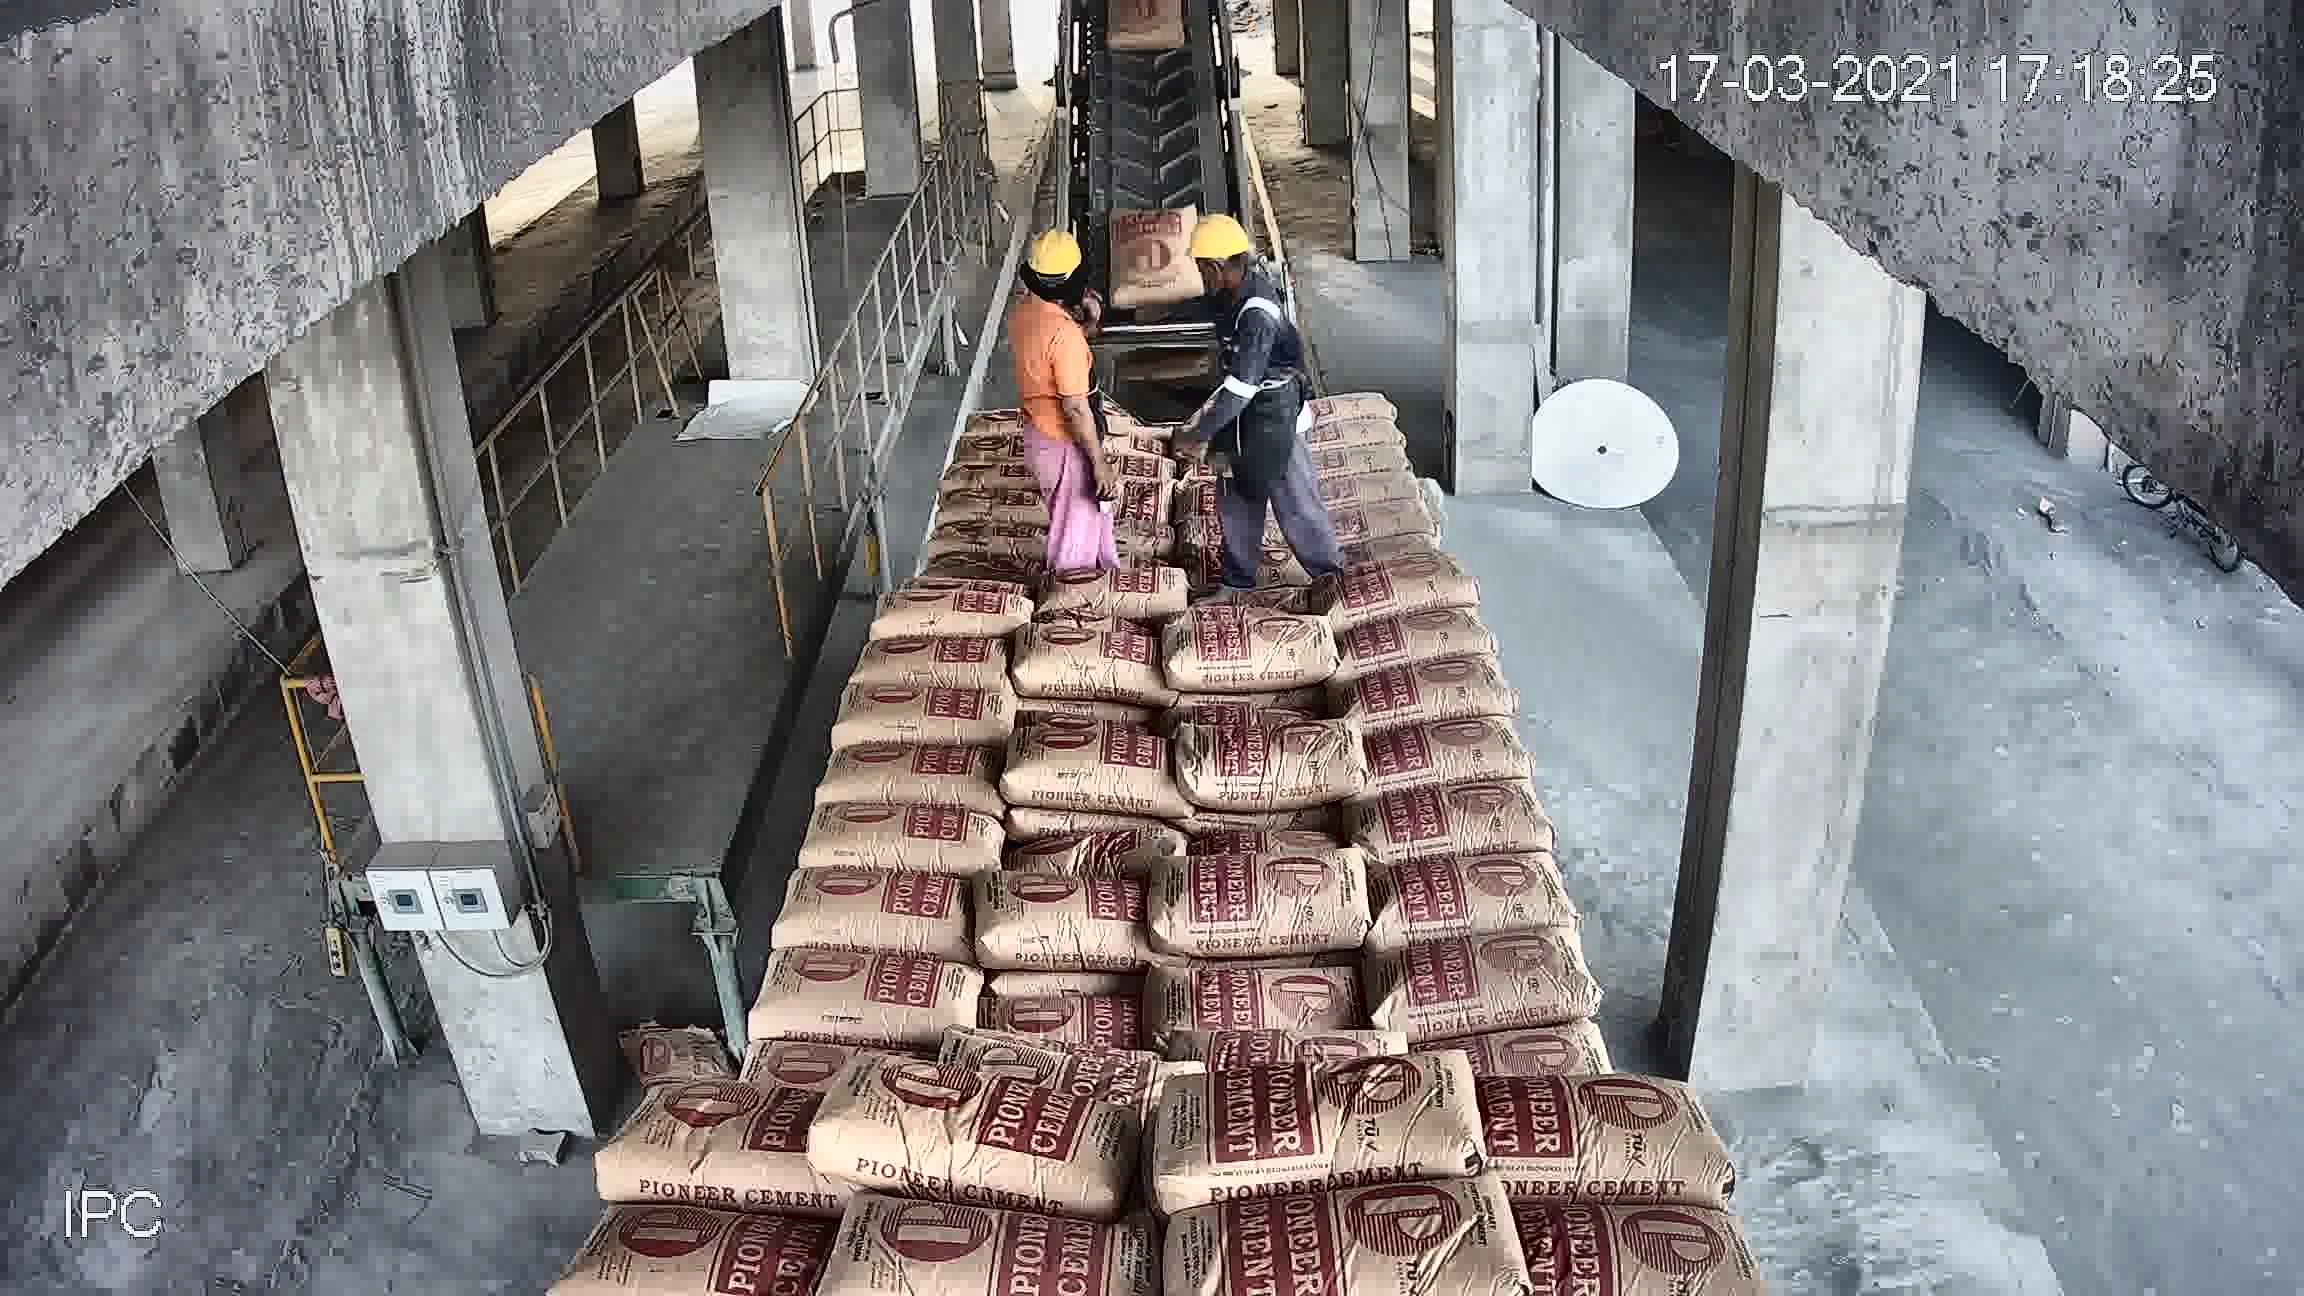bag: (1108, 207, 1204, 304)
bag_h: (1146, 1054, 1484, 1196), (801, 1063, 1135, 1201), (1476, 1073, 1728, 1211), (1351, 840, 1578, 961), (1351, 934, 1609, 1036), (585, 1090, 809, 1204), (1168, 836, 1374, 956), (742, 956, 1006, 1044), (771, 859, 980, 953), (970, 866, 1161, 967), (1355, 766, 1552, 861), (1002, 707, 1179, 812), (802, 801, 1006, 885), (1147, 600, 1332, 688), (1182, 723, 1366, 812), (1177, 1014, 1405, 1086), (1146, 959, 1356, 1035), (1000, 810, 1180, 892), (818, 739, 1017, 813), (1336, 585, 1497, 677), (1355, 720, 1533, 802), (823, 680, 1021, 753), (1426, 1017, 1605, 1097), (943, 1021, 1177, 1079), (1345, 652, 1519, 729), (997, 620, 1166, 698), (850, 619, 1014, 698), (1032, 555, 1184, 635), (1329, 536, 1472, 619), (851, 576, 1032, 641), (981, 972, 1139, 1035), (894, 530, 1046, 590), (1187, 805, 1356, 859), (1173, 527, 1307, 592), (1305, 434, 1419, 495), (907, 489, 1060, 533), (1318, 497, 1454, 544), (904, 514, 1043, 555), (1302, 377, 1400, 434), (1309, 470, 1434, 514), (938, 449, 1043, 502), (1089, 446, 1173, 491), (1310, 418, 1407, 453)
belt: (1059, 5, 1252, 385)
